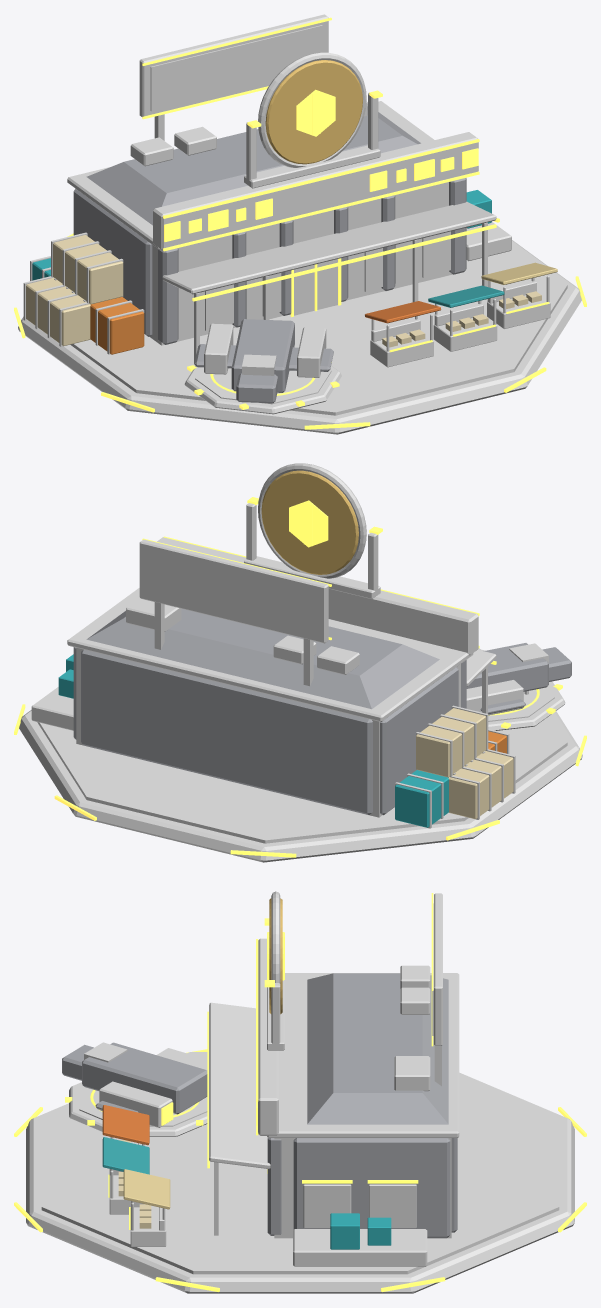
Rendered from sb_comptoir_t2.glb.
3 views of the same model, one above another, from view 1: azimuth 30°, elevation 25°; view 2: azimuth 150°, elevation 25°; view 3: azimuth 270°, elevation 25° (orthographic). The views are drawn at different scales.
Visible parts, largest first — view 1: SM_CP_PLINTH_TOP, SM_CP_PLINTH, SM_CP_HALL_PLATES, SM_CP_GLOW, SM_CP_SIGN_BAND, SM_CP_ROOF, SM_CP_AWNING, SM_CP_BILLBOARD_SCREEN, SM_CP_HALL_CORE, SM_CP_COIN, SM_CP_CRATE_C, SM_CP_VITRINES (+21 smaller); view 2: SM_CP_HALL_PLATES, SM_CP_PLINTH_TOP, SM_CP_ROOF, SM_CP_PLINTH, SM_CP_BILLBOARD, SM_CP_ROOF_EDGE, SM_CP_COIN, SM_CP_CRATE_C, SM_CP_SIGN_BAND, SM_CP_SHIP, SM_CP_ROOF_UNITS, SM_CP_COIN_FRAME (+12 smaller); view 3: SM_CP_PLINTH_TOP, SM_CP_ROOF, SM_CP_PLINTH, SM_CP_HALL_PLATES, SM_CP_ROOF_EDGE, SM_CP_AWNING, SM_CP_SHIP, SM_CP_DOCK, SM_CP_GLOW, SM_CP_DOCK_DOORS, SM_CP_ROOF_UNITS, SM_CP_SIGN_BAND (+14 smaller).
Part boxes in pixels (left/top/right/bottom): SM_CP_PLINTH_TOP: left=70, top=244, right=567, bottom=415; SM_CP_PLINTH: left=18, top=240, right=581, bottom=434; SM_CP_HALL_PLATES: left=73, top=178, right=466, bottom=344; SM_CP_GLOW: left=14, top=17, right=586, bottom=429; SM_CP_SIGN_BAND: left=153, top=132, right=478, bottom=250; SM_CP_ROOF: left=86, top=106, right=420, bottom=225; SM_CP_AWNING: left=162, top=201, right=496, bottom=294; SM_CP_BILLBOARD_SCREEN: left=150, top=25, right=322, bottom=111; SM_CP_HALL_CORE: left=149, top=182, right=452, bottom=345; SM_CP_COIN: left=265, top=60, right=362, bottom=164; SM_CP_CRATE_C: left=26, top=235, right=123, bottom=346; SM_CP_VITRINES: left=178, top=231, right=450, bottom=336; SM_CP_HALL_PLATES: left=73, top=647, right=466, bottom=815; SM_CP_PLINTH_TOP: left=37, top=650, right=567, bottom=843; SM_CP_ROOF: left=86, top=608, right=439, bottom=709; SM_CP_PLINTH: left=19, top=649, right=582, bottom=862; SM_CP_BILLBOARD: left=139, top=539, right=328, bottom=643; SM_CP_ROOF_EDGE: left=67, top=588, right=473, bottom=721; SM_CP_COIN: left=261, top=470, right=358, bottom=574; SM_CP_CRATE_C: left=416, top=708, right=513, bottom=819; SM_CP_SIGN_BAND: left=157, top=537, right=478, bottom=655; SM_CP_SHIP: left=466, top=643, right=571, bottom=714; SM_CP_ROOF_UNITS: left=126, top=598, right=359, bottom=674; SM_CP_COIN_FRAME: left=244, top=503, right=380, bottom=598; SM_CP_PLINTH_TOP: left=41, top=1052, right=559, bottom=1274; SM_CP_ROOF: left=307, top=973, right=448, bottom=1124; SM_CP_PLINTH: left=26, top=1052, right=574, bottom=1293; SM_CP_HALL_PLATES: left=267, top=1137, right=457, bottom=1238; SM_CP_ROOF_EDGE: left=267, top=973, right=459, bottom=1137; SM_CP_AWNING: left=209, top=1002, right=270, bottom=1168; SM_CP_SHIP: left=62, top=1042, right=207, bottom=1114; SM_CP_DOCK: left=293, top=1229, right=427, bottom=1266; SM_CP_GLOW: left=14, top=893, right=586, bottom=1291; SM_CP_DOCK_DOORS: left=303, top=1184, right=416, bottom=1228; SM_CP_ROOF_UNITS: left=394, top=965, right=430, bottom=1091; SM_CP_SIGN_BAND: left=258, top=938, right=278, bottom=1135.
Size of the model in its own units: 38.44 by 20.8 by 38.44.
